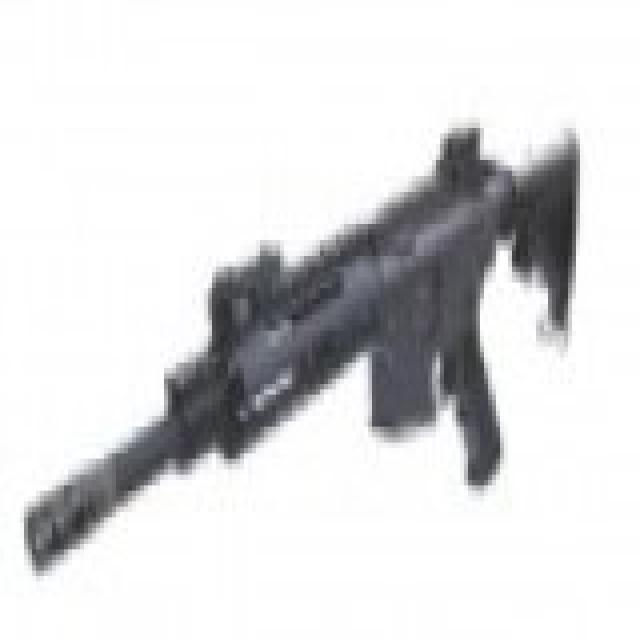Gun: (18, 105, 585, 605)
